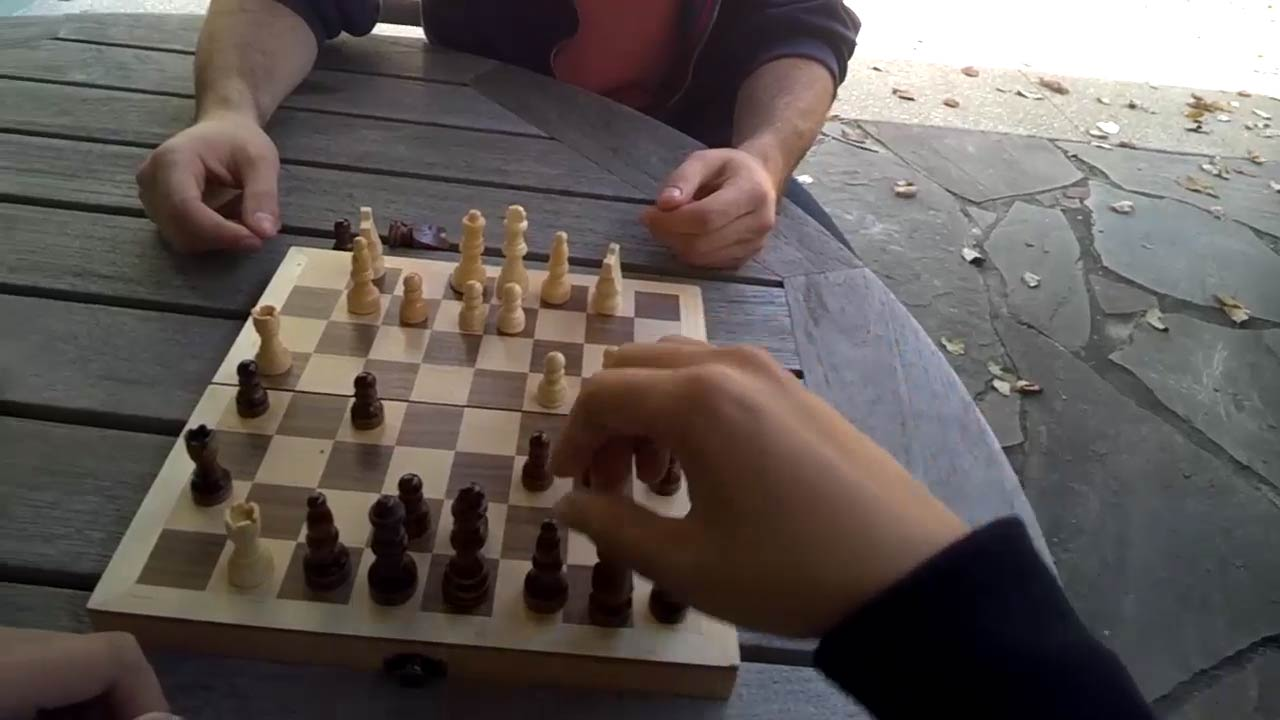hand: (558, 343, 960, 641), (134, 114, 278, 250), (642, 146, 781, 265), (4, 630, 174, 717)
